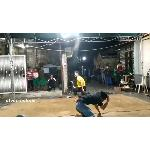Celurit: (65, 77, 77, 91)
